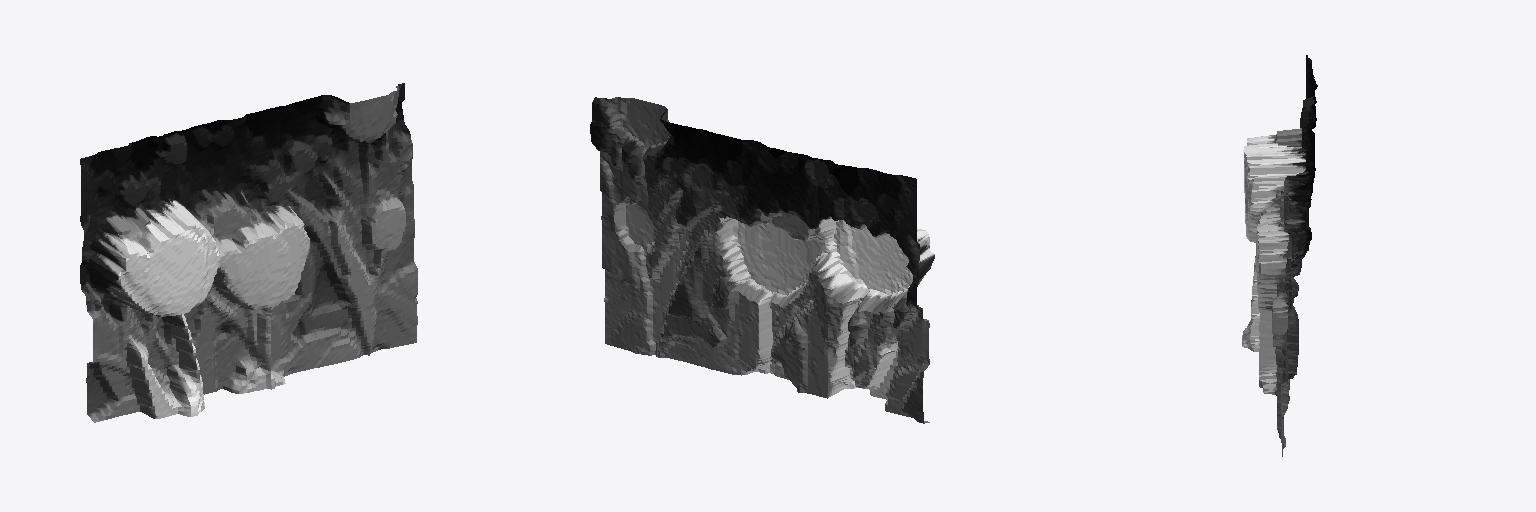
The picture shows the model from 3 angles: view 1: azimuth 30°, elevation 25°; view 2: azimuth 150°, elevation 25°; view 3: azimuth 270°, elevation 25°; orthographic projection.
Visible parts, largest first — view 1: Flowers; view 2: Flowers; view 3: Flowers.
Boxes of the visible parts, x1=… form: Flowers: x1=80, y1=83, x2=417, y2=422; Flowers: x1=590, y1=97, x2=934, y2=423; Flowers: x1=1242, y1=55, x2=1317, y2=456.
Bounding box in the file's own units: 99 × 74 × 20.
1 materials, 1 textured.